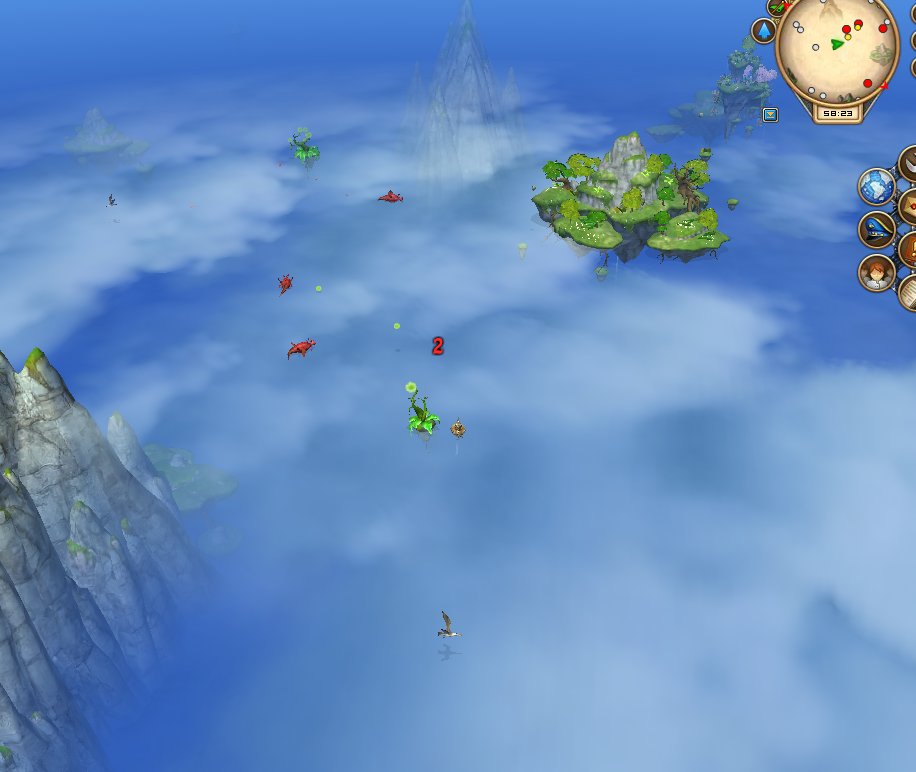dandelion-full: (399, 376, 445, 448), (285, 122, 323, 173)
fluff: (313, 280, 325, 296), (390, 320, 402, 331)
